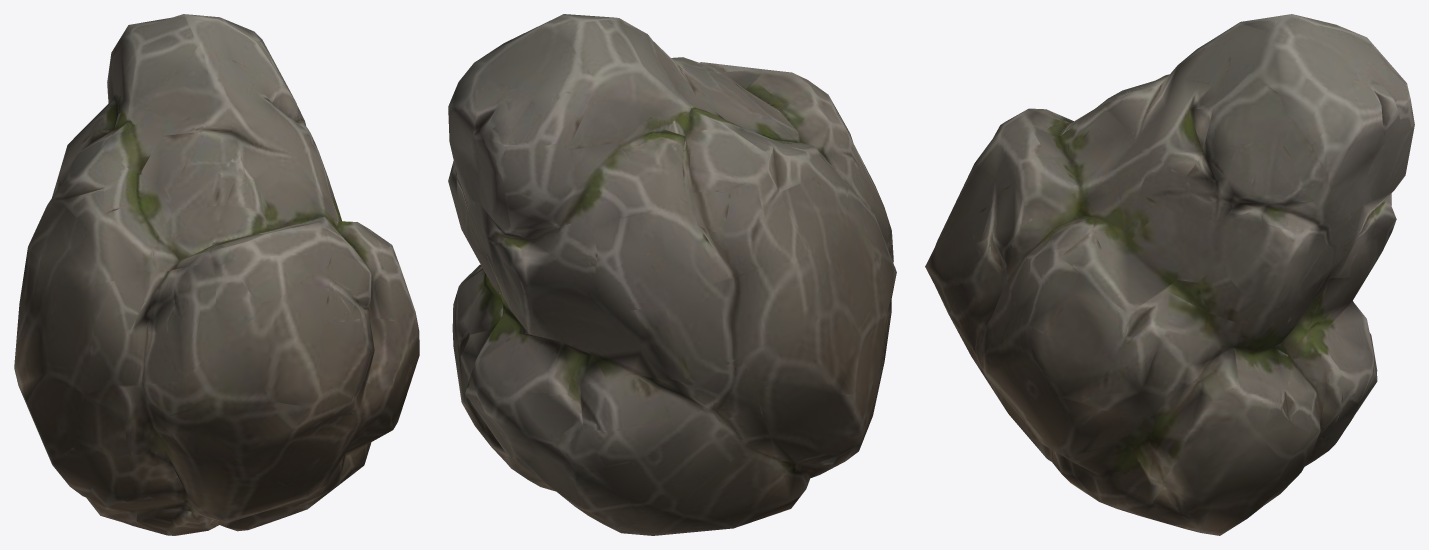
File: boulder.glb
The picture shows the model from 3 angles, left to right: view 1: azimuth 30°, elevation 25°; view 2: azimuth 150°, elevation 25°; view 3: azimuth 270°, elevation 25°; orthographic projection. The views are drawn at different scales.
Size of the model in its own units: 1.47 by 1.89 by 1.7.
1 material, 1 textured.
